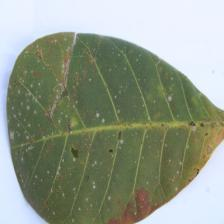red rust: (5, 30, 224, 223)
